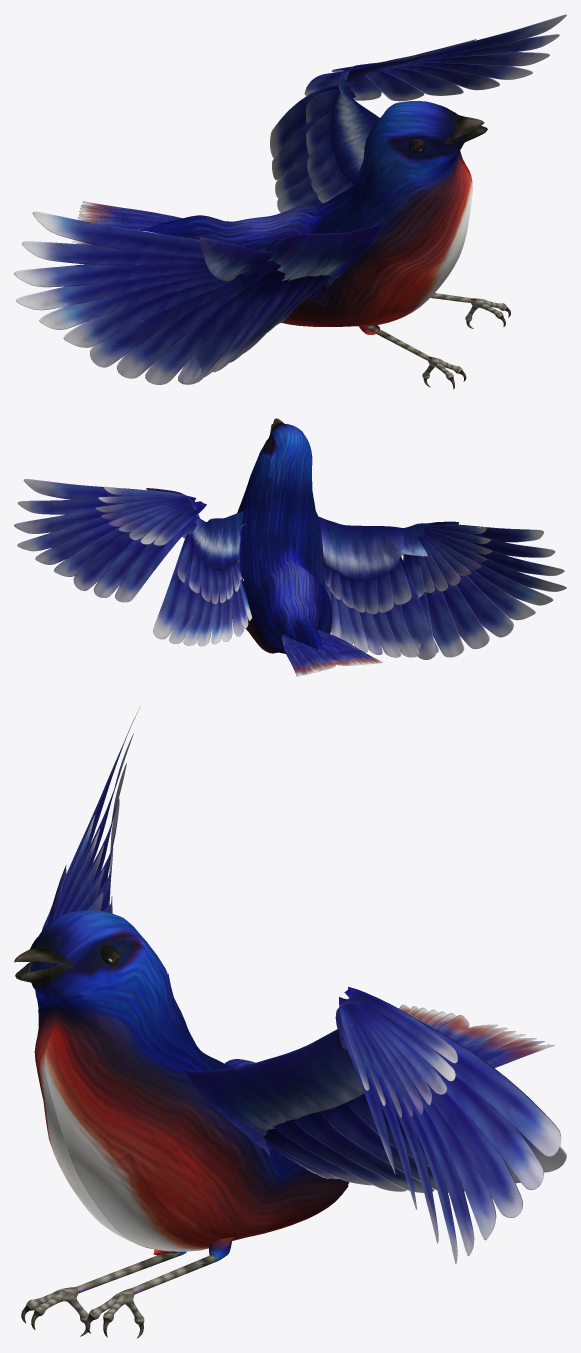
File: pajaro_azul.glb
3 renders of one model, top to bottom at view 1: azimuth 30°, elevation 25°; view 2: azimuth 150°, elevation 25°; view 3: azimuth 270°, elevation 25°, orthographic. The views are drawn at different scales.
Visible parts, largest first — view 1: Object_7, Object_3, Object_2, Object_4, Object_5, Object_8, Object_6; view 2: Object_7, Object_2, Object_3, Object_4, Object_5, Object_8, Object_6; view 3: Object_7, Object_2, Object_5, Object_3, Object_4, Object_8.
Boxes of the visible parts, x1,y1,x2,y2 form: Object_7: [141, 52, 487, 326]; Object_3: [16, 107, 332, 384]; Object_2: [14, 14, 566, 287]; Object_4: [79, 219, 510, 383]; Object_5: [275, 89, 466, 389]; Object_8: [77, 170, 354, 224]; Object_6: [306, 110, 340, 193]; Object_7: [146, 418, 458, 653]; Object_2: [14, 479, 564, 665]; Object_3: [169, 524, 566, 665]; Object_4: [300, 556, 438, 668]; Object_5: [177, 440, 364, 646]; Object_8: [218, 566, 328, 676]; Object_6: [188, 547, 240, 604]; Object_7: [14, 865, 369, 1251]; Object_2: [47, 763, 566, 1263]; Object_5: [21, 944, 464, 1336]; Object_3: [53, 706, 520, 1183]; Object_4: [85, 1024, 497, 1338]; Object_8: [261, 1027, 554, 1178].
Bounding box in the file's own units: 56.56 × 24.01 × 28.95.
1 material, 1 textured.
